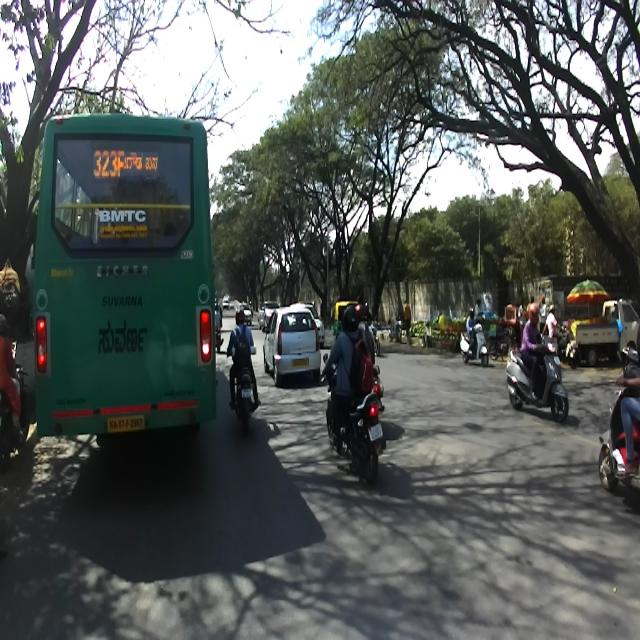bus: (31, 113, 218, 443)
motorcycle_HeroHonda: (320, 352, 384, 483)
motorcycle_bajaj: (226, 345, 262, 431)
scooter: (506, 332, 568, 422), (597, 361, 639, 491), (0, 364, 28, 471)
